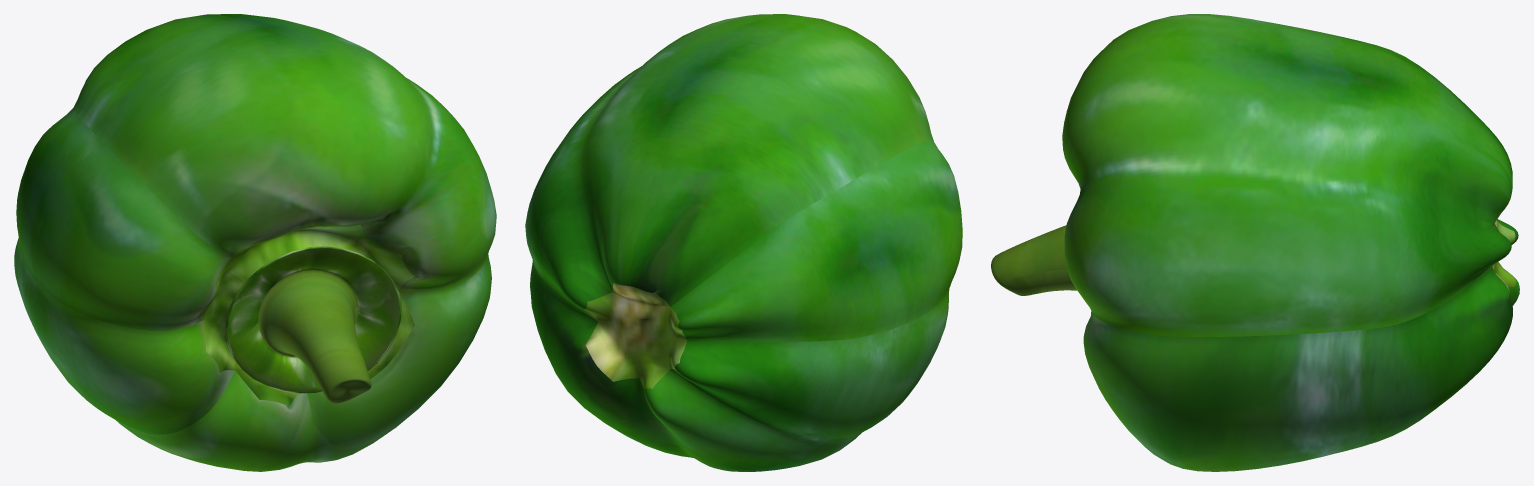
File: bellPepper.obj
The picture shows the model from 3 angles, left to right: view 1: azimuth 30°, elevation 25°; view 2: azimuth 150°, elevation 25°; view 3: azimuth 270°, elevation 25°; orthographic projection. The views are drawn at different scales.
Parts seen in each view (by area): view 1: 10165_BellPepper_v01; view 2: 10165_BellPepper_v01; view 3: 10165_BellPepper_v01.
Part boxes in pixels (<box>): 10165_BellPepper_v01: <box>14,14,496,471</box>; 10165_BellPepper_v01: <box>525,14,962,471</box>; 10165_BellPepper_v01: <box>991,14,1519,471</box>.
Bounding box in the file's own units: 162 × 165 × 191.
Materials: 1 (1 with a texture image).
